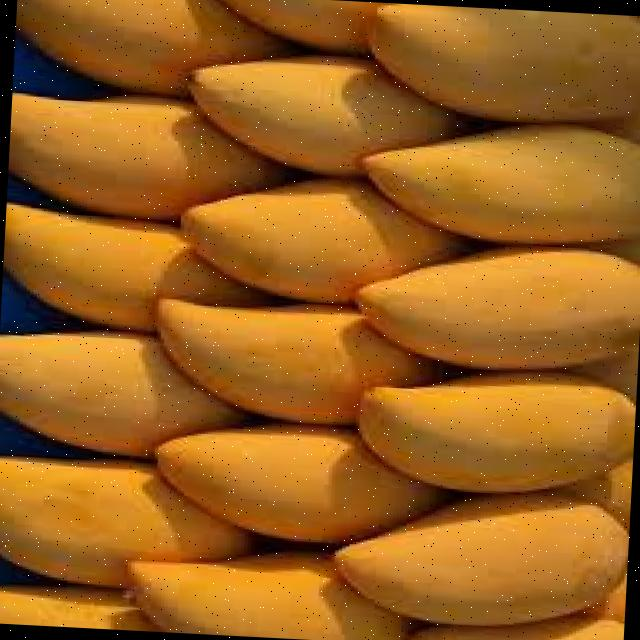mango: (351, 247, 640, 370)
